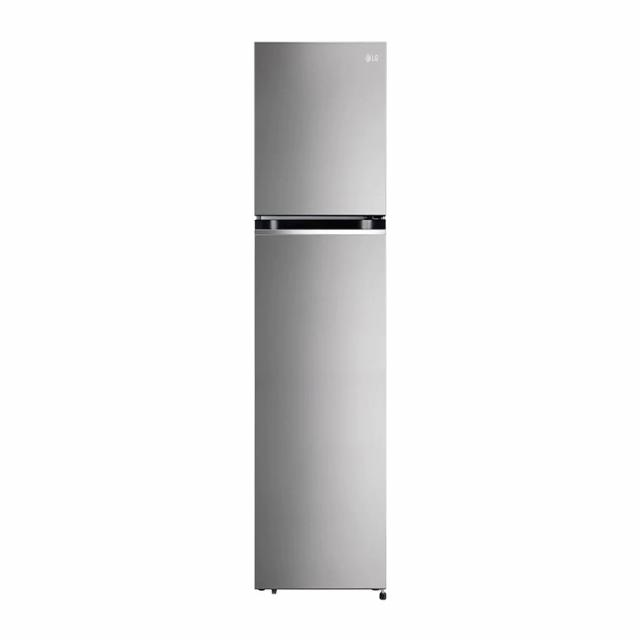refrigerator: (253, 41, 388, 592)
